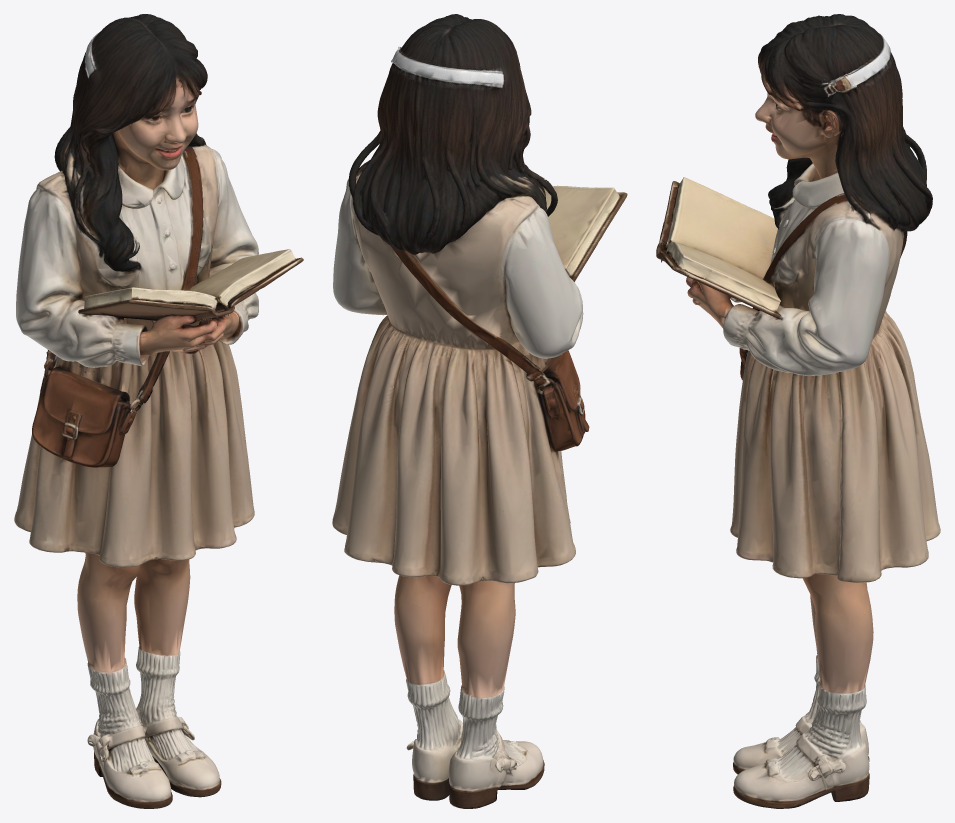
File: learner-girl.glb
3 renders of one model, left to right at view 1: azimuth 30°, elevation 25°; view 2: azimuth 150°, elevation 25°; view 3: azimuth 270°, elevation 25°, orthographic. The views are drawn at different scales.
Visible parts, largest first — view 1: tripo_node_7b2cab52-ed69-4315-96ba-a45a04389e8b; view 2: tripo_node_7b2cab52-ed69-4315-96ba-a45a04389e8b; view 3: tripo_node_7b2cab52-ed69-4315-96ba-a45a04389e8b.
Part boxes in pixels (x1,y1,x2,y2): tripo_node_7b2cab52-ed69-4315-96ba-a45a04389e8b: [14, 14, 303, 808]; tripo_node_7b2cab52-ed69-4315-96ba-a45a04389e8b: [332, 14, 627, 808]; tripo_node_7b2cab52-ed69-4315-96ba-a45a04389e8b: [656, 14, 940, 808].
Bounding box in the file's own units: 0.3165 × 0.9814 × 0.3294.
1 material, 1 textured.
